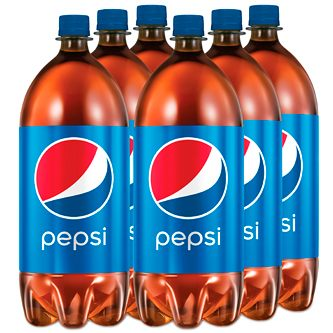pepsi: (31, 136, 114, 219), (33, 136, 114, 219), (147, 134, 227, 218), (31, 139, 114, 219), (147, 136, 227, 218), (242, 134, 266, 209), (281, 128, 302, 202)
